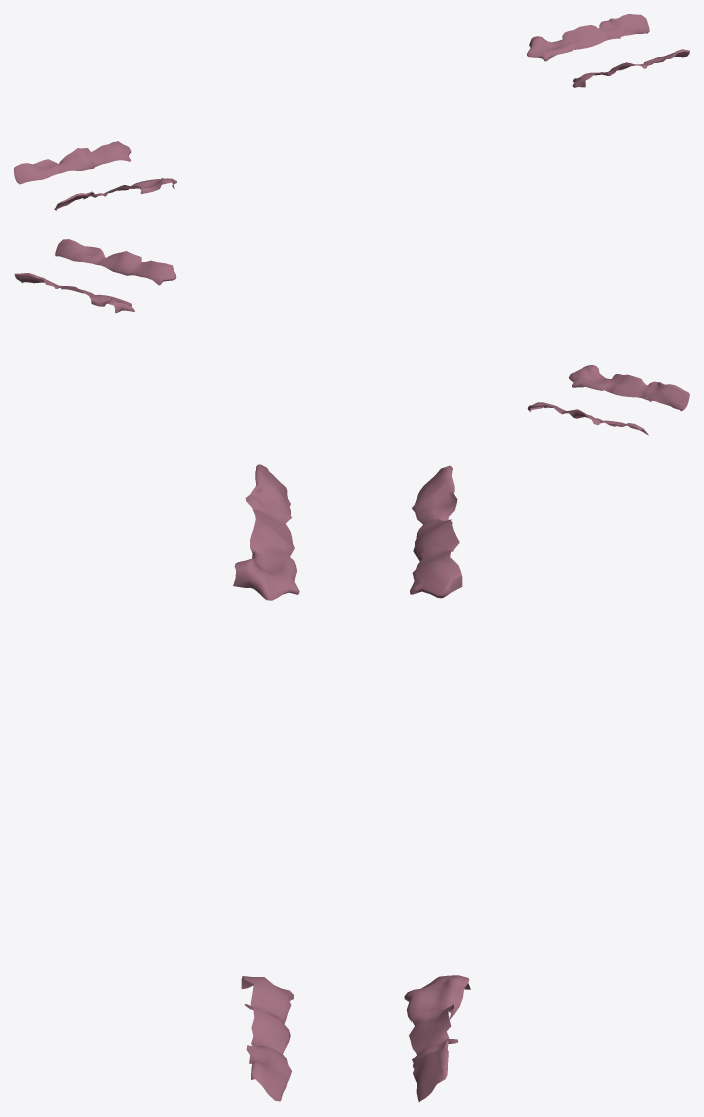
Rendered from Sand_small_Low.fbx.
The picture shows the model from 3 angles, top to bottom: view 1: azimuth 30°, elevation 25°; view 2: azimuth 150°, elevation 25°; view 3: azimuth 270°, elevation 25°; orthographic projection. The views are drawn at different scales.
Visible parts, largest first — view 1: Sand_small_Left_Low, Sand_small_Right_1_Low, Sand_small_Left_1_Low, Sand_small_Right_Low; view 2: Sand_small_Left_1_Low, Sand_small_Right_Low, Sand_small_Left_Low, Sand_small_Right_1_Low; view 3: Sand_small_Left_1_Low, Sand_small_Right_1_Low, Sand_small_Left_Low, Sand_small_Right_Low.
Part boxes in pixels (box(x1,y1,x2,y2)): Sand_small_Left_Low: box(527, 14, 649, 61); Sand_small_Right_1_Low: box(14, 141, 131, 184); Sand_small_Left_1_Low: box(54, 178, 176, 210); Sand_small_Right_Low: box(572, 49, 689, 87); Sand_small_Left_1_Low: box(569, 365, 689, 411); Sand_small_Right_Low: box(55, 239, 176, 285); Sand_small_Left_Low: box(14, 273, 134, 313); Sand_small_Right_1_Low: box(527, 402, 648, 435); Sand_small_Left_1_Low: box(233, 464, 299, 600); Sand_small_Right_1_Low: box(410, 465, 462, 598); Sand_small_Left_Low: box(404, 975, 470, 1101); Sand_small_Right_Low: box(241, 976, 293, 1101).
Size of the model in its own units: 5378 by 149 by 877.
